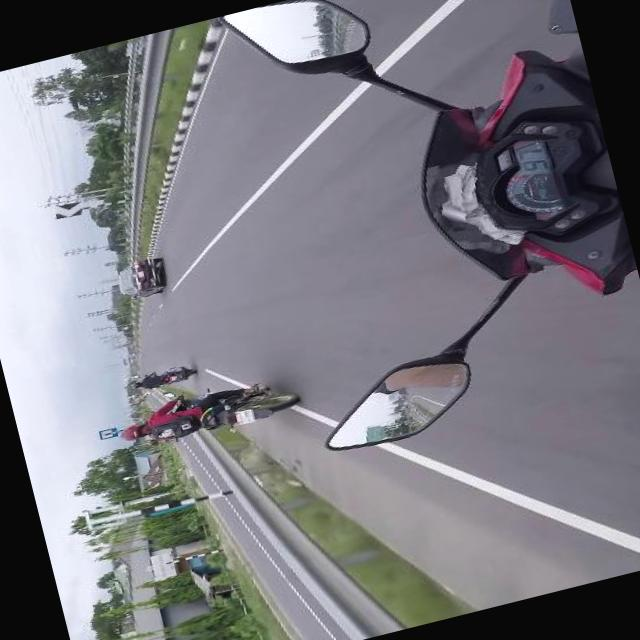car: (112, 254, 167, 306)
motorcycle: (210, 0, 640, 459), (109, 362, 300, 460), (126, 361, 201, 396)
